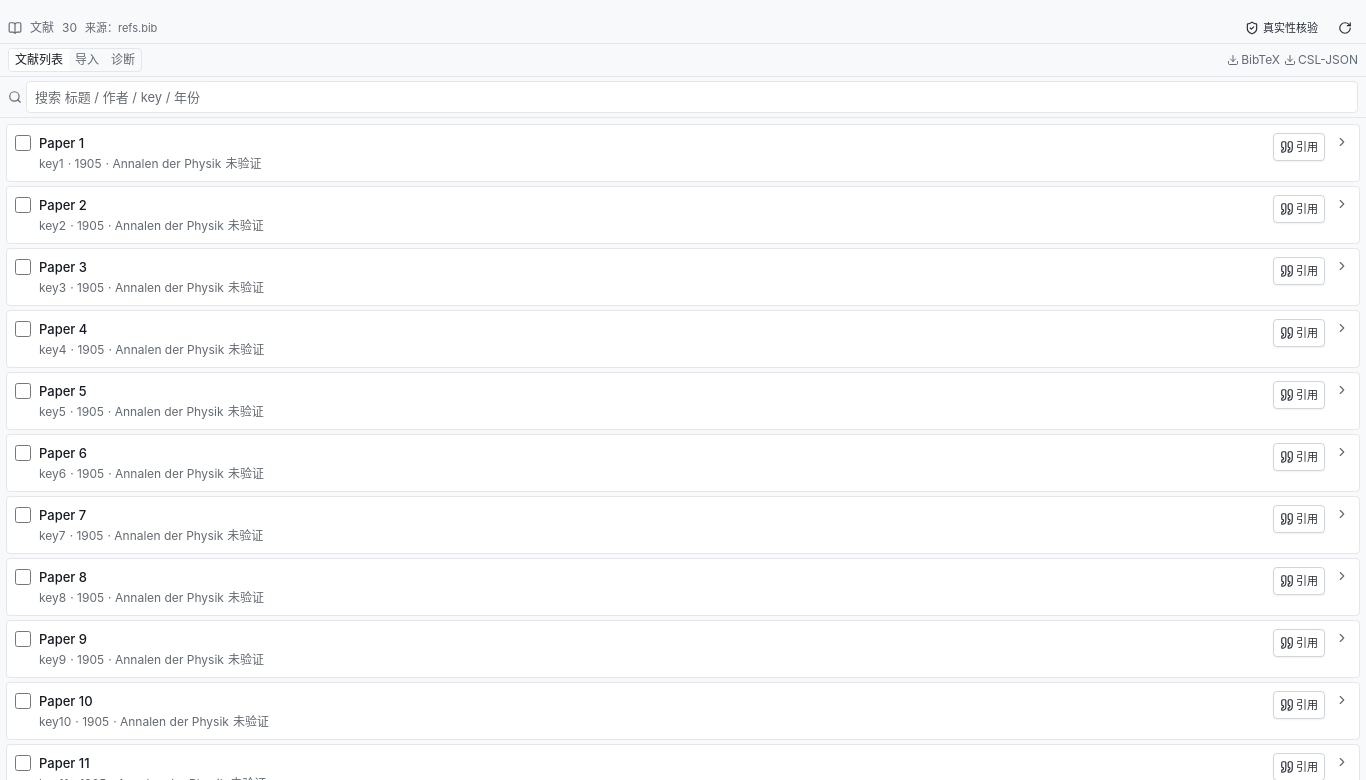
Test: LibraryPanel 文献真实性核验自动分批 › 超过 25 条文献时自动分批顺序调用 /library/verify 并汇总全部条目
Click the button with test id "library-verify-btn" at (1282,28), box [1239, 14, 1324, 42]
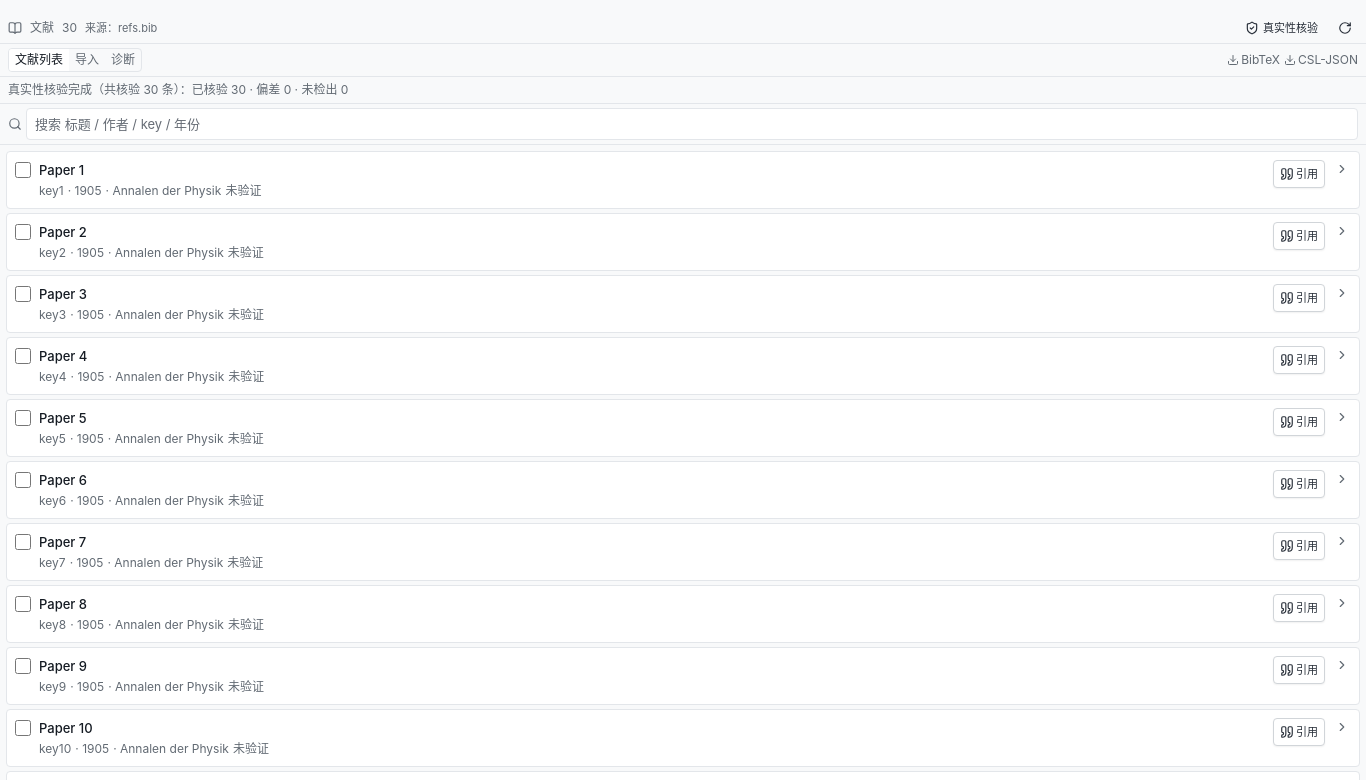
Now the text "共核验 30 条" is shown, box [8, 82, 348, 97]
